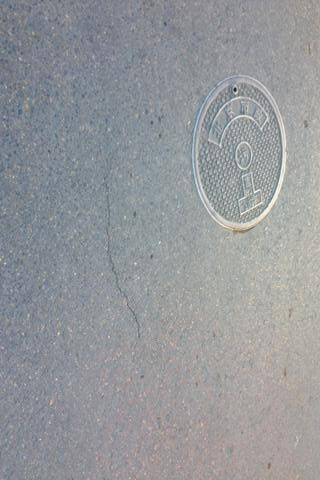A: (88, 167, 150, 347)
